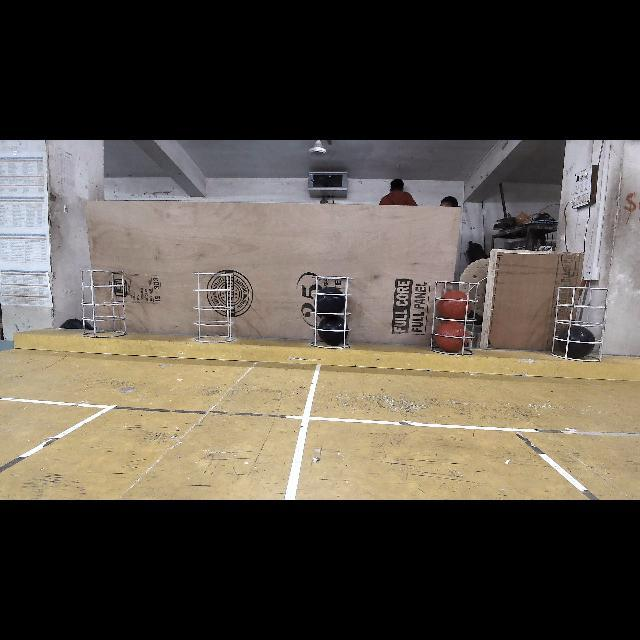P: (560, 326, 594, 358), (312, 288, 346, 314), (321, 316, 349, 346)
R: (436, 322, 468, 354), (437, 290, 471, 320)
S: (546, 281, 608, 361), (431, 278, 483, 360), (306, 267, 354, 349), (192, 269, 240, 349), (78, 266, 126, 340)
